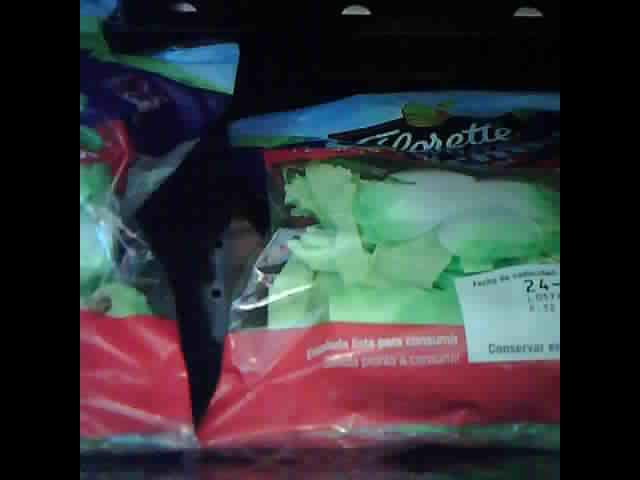florette: (188, 87, 559, 456), (72, 34, 240, 462)
